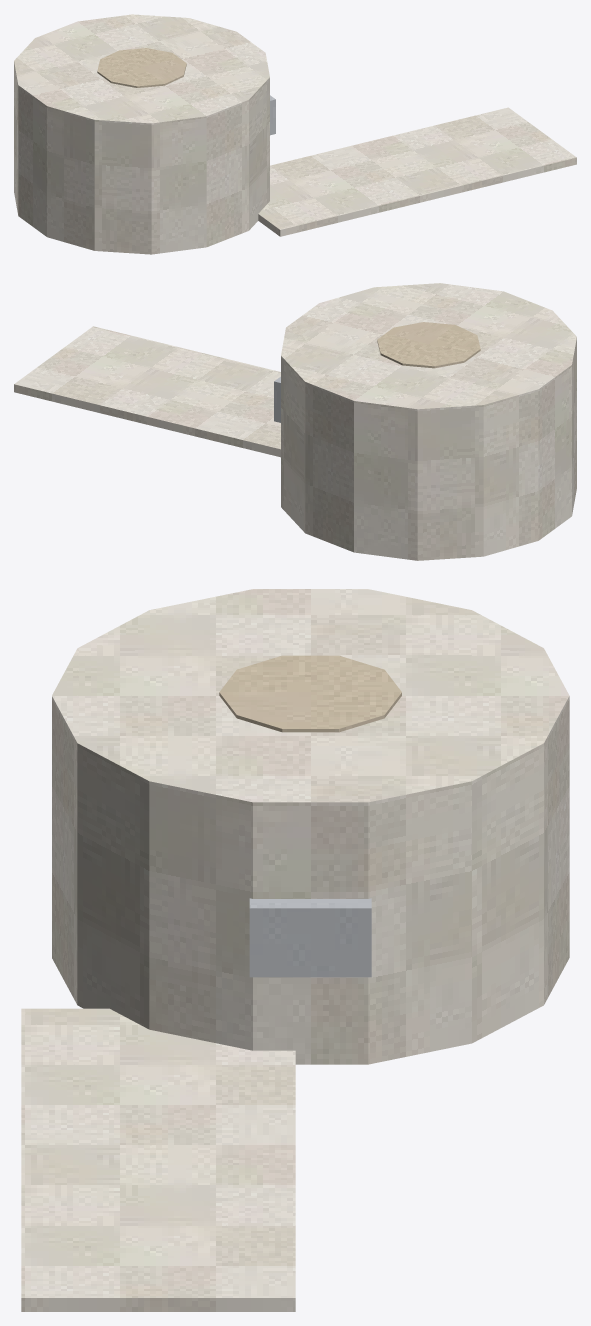
The picture shows the model from 3 angles, top to bottom: view 1: azimuth 30°, elevation 25°; view 2: azimuth 150°, elevation 25°; view 3: azimuth 270°, elevation 25°; orthographic projection. The views are drawn at different scales.
Visible parts, largest first — view 1: bandage; view 2: bandage; view 3: bandage.
Boxes of the visible parts, x1,y1,x2,y2 form: bandage: (14,14,576,254); bandage: (14,283,576,560); bandage: (21,589,569,1311).
Size of the model in its own units: 0.1431 by 0.0385 by 0.072.
3 materials, 3 textured.
